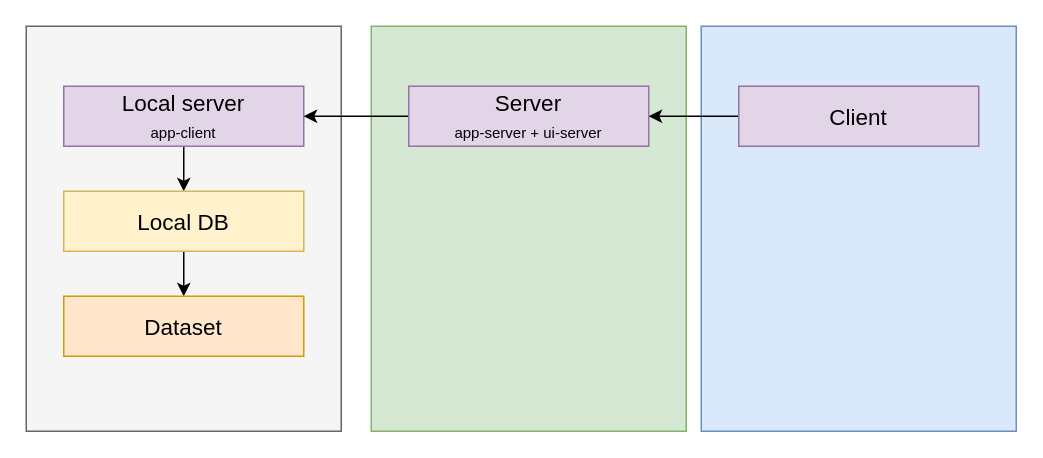
Some shapes in this 1043 by 458 pixel diagram are drawn without their labels. Here are the shapes that lost their labels. From the top down, the box of each, then its label:
(25, 25, 341, 431): Edge Deployment (Network without public ip)
(370, 25, 686, 431): Main Deployment (Network with public ip)
(700, 25, 1016, 431): Customer (Network without public ip)
